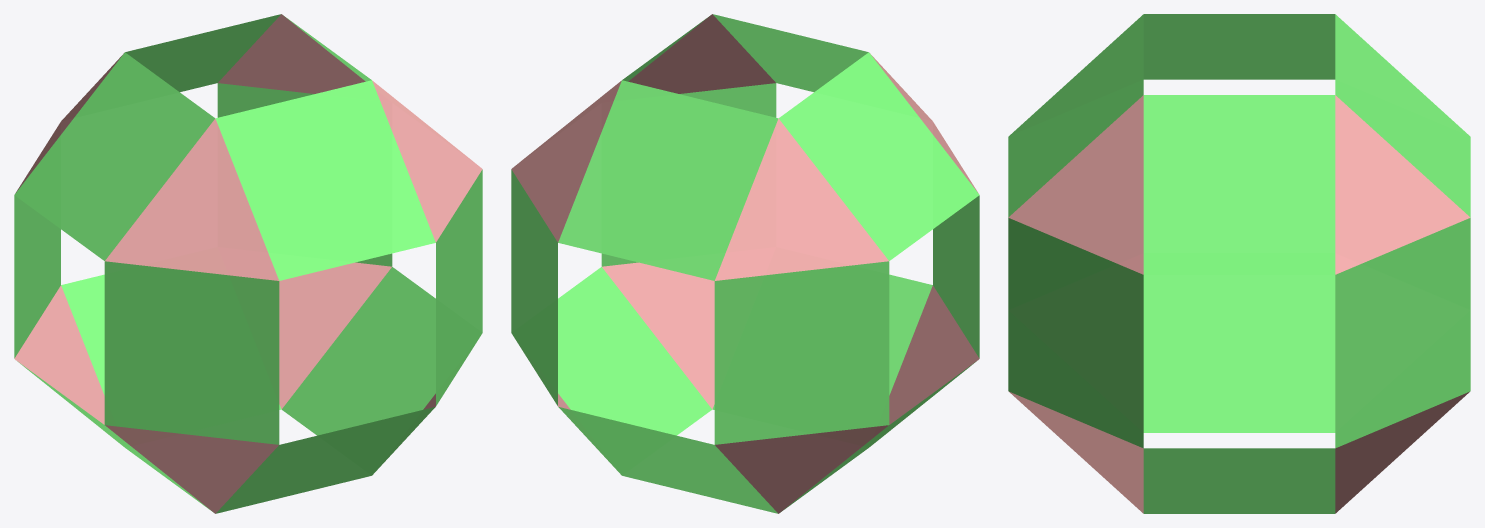
The model's file is RhombicuboctahedronA.obj.
3 views of the same model, side by side, from view 1: azimuth 30°, elevation 25°; view 2: azimuth 150°, elevation 25°; view 3: azimuth 270°, elevation 25° (orthographic). The views are drawn at different scales.
Size of the model in its own units: 2.41 by 2.41 by 2.41.
